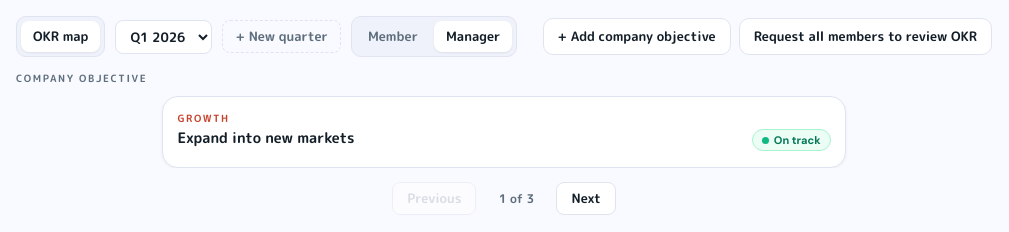
Scenario: OkrMapPage › carousel navigation › disables Next at the last position
Click the button "Next" at (586, 198), box x1=556 y1=182 x2=616 y2=215
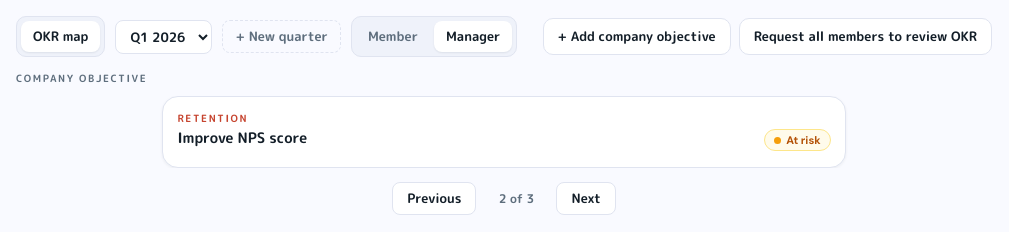
Click the button "Next" at (586, 198), box x1=556 y1=182 x2=616 y2=215
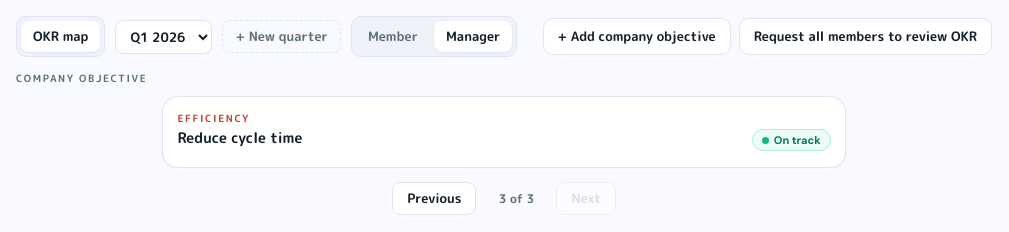
Result: the button "Previous" is enabled at x1=392 y1=182 x2=476 y2=215
Result: the button "Next" is disabled at x1=556 y1=182 x2=616 y2=215
Result: the text "3 of 3" is shown at x1=499 y1=190 x2=534 y2=206
